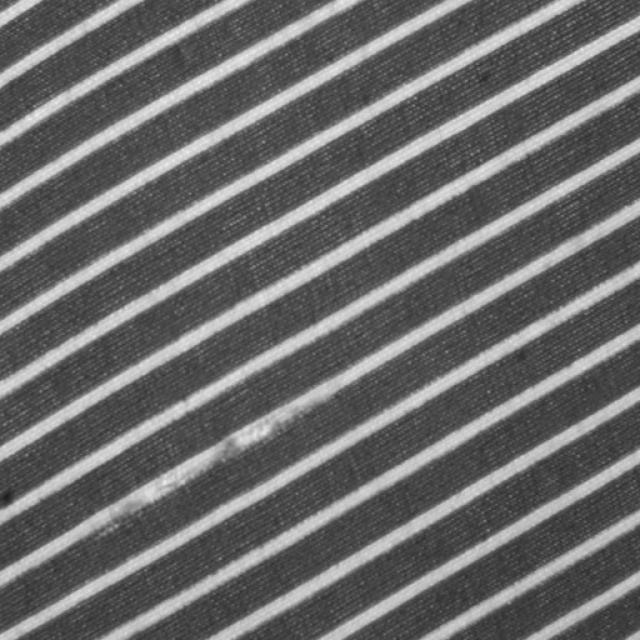Thread-Defect: (81, 386, 336, 538)
